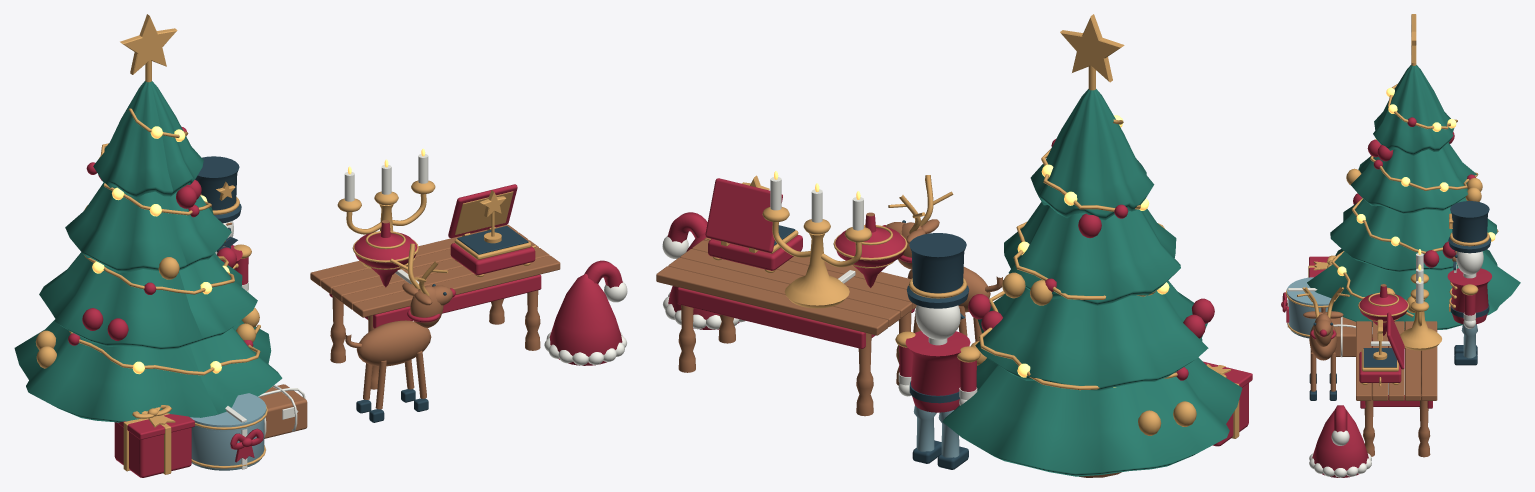
The model's file is storybook-christmas-market-tree-and-keepsakes-221ddb51__19748.glb.
3 views of the same model, side by side, from view 1: azimuth 30°, elevation 25°; view 2: azimuth 150°, elevation 25°; view 3: azimuth 270°, elevation 25° (orthographic). The views are drawn at different scales.
Parts seen in each view (by area): view 1: 000-grand-christmas-tree/1, 005-turned-leg-display-table/0, 000-grand-christmas-tree/2, 010-woodland-reindeer/0, 009-fur-trimmed-santa-hat/0, 002-round-ribbon-hatbox/0, 001-ribbon-wrapped-gift/0, 007-star-music-box/open-lid (×2), 000-grand-christmas-tree/3, 004-heirloom-nutcracker/0, 005-turned-leg-display-table/1, 008-striped-spinning-top/0 (+11 smaller); view 2: 000-grand-christmas-tree/1, 005-turned-leg-display-table/0, 000-grand-christmas-tree/2, 004-heirloom-nutcracker/0, 004-heirloom-nutcracker/2, 006-three-arm-candelabra/0, 007-star-music-box/open-lid, 005-turned-leg-display-table/1, 000-grand-christmas-tree/3, 008-striped-spinning-top/0, 010-woodland-reindeer/0, 004-heirloom-nutcracker/3 (+9 smaller); view 3: 000-grand-christmas-tree/1, 005-turned-leg-display-table/0, 004-heirloom-nutcracker/0, 009-fur-trimmed-santa-hat/0, 000-grand-christmas-tree/2, 010-woodland-reindeer/0, 004-heirloom-nutcracker/2, 006-three-arm-candelabra/0, 002-round-ribbon-hatbox/0, 008-striped-spinning-top/0, 000-grand-christmas-tree/3, 009-fur-trimmed-santa-hat/1 (+13 smaller).
Boxes of the visible parts, x1,y1,x2,y2 form: 000-grand-christmas-tree/1: (14, 81, 282, 422); 005-turned-leg-display-table/0: (310, 224, 560, 389); 000-grand-christmas-tree/2: (35, 14, 260, 375); 010-woodland-reindeer/0: (345, 283, 452, 409); 009-fur-trimmed-santa-hat/0: (549, 260, 622, 365); 002-round-ribbon-hatbox/0: (190, 393, 266, 470); 001-ribbon-wrapped-gift/0: (114, 414, 194, 477); 007-star-music-box/open-lid (×2): (448, 184, 517, 238); 000-grand-christmas-tree/3: (68, 126, 253, 346); 004-heirloom-nutcracker/0: (195, 156, 241, 251); 005-turned-leg-display-table/1: (329, 274, 541, 328); 008-striped-spinning-top/0: (354, 222, 417, 287); 000-grand-christmas-tree/1: (942, 89, 1242, 476); 005-turned-leg-display-table/0: (656, 237, 916, 416); 000-grand-christmas-tree/2: (970, 14, 1196, 435); 004-heirloom-nutcracker/0: (907, 233, 969, 469); 004-heirloom-nutcracker/2: (899, 331, 976, 412); 006-three-arm-candelabra/0: (762, 207, 871, 308); 007-star-music-box/open-lid: (705, 178, 782, 252); 005-turned-leg-display-table/1: (677, 287, 914, 348); 000-grand-christmas-tree/3: (968, 139, 1214, 380); 008-striped-spinning-top/0: (835, 215, 905, 287); 010-woodland-reindeer/0: (885, 219, 1003, 341); 004-heirloom-nutcracker/3: (898, 305, 977, 405); 000-grand-christmas-tree/1: (1307, 65, 1520, 329); 005-turned-leg-display-table/0: (1356, 321, 1437, 457); 004-heirloom-nutcracker/0: (1448, 201, 1491, 365); 009-fur-trimmed-santa-hat/0: (1312, 405, 1368, 477); 000-grand-christmas-tree/2: (1331, 14, 1498, 317); 010-woodland-reindeer/0: (1303, 307, 1343, 391); 004-heirloom-nutcracker/2: (1447, 268, 1492, 324); 006-three-arm-candelabra/0: (1400, 273, 1441, 350); 002-round-ribbon-hatbox/0: (1287, 277, 1331, 338); 008-striped-spinning-top/0: (1359, 286, 1407, 335); 000-grand-christmas-tree/3: (1353, 117, 1475, 267); 009-fur-trimmed-santa-hat/1: (1309, 430, 1371, 477).
Bounding box in the file's own units: 5.69 × 3.93 × 2.78.
